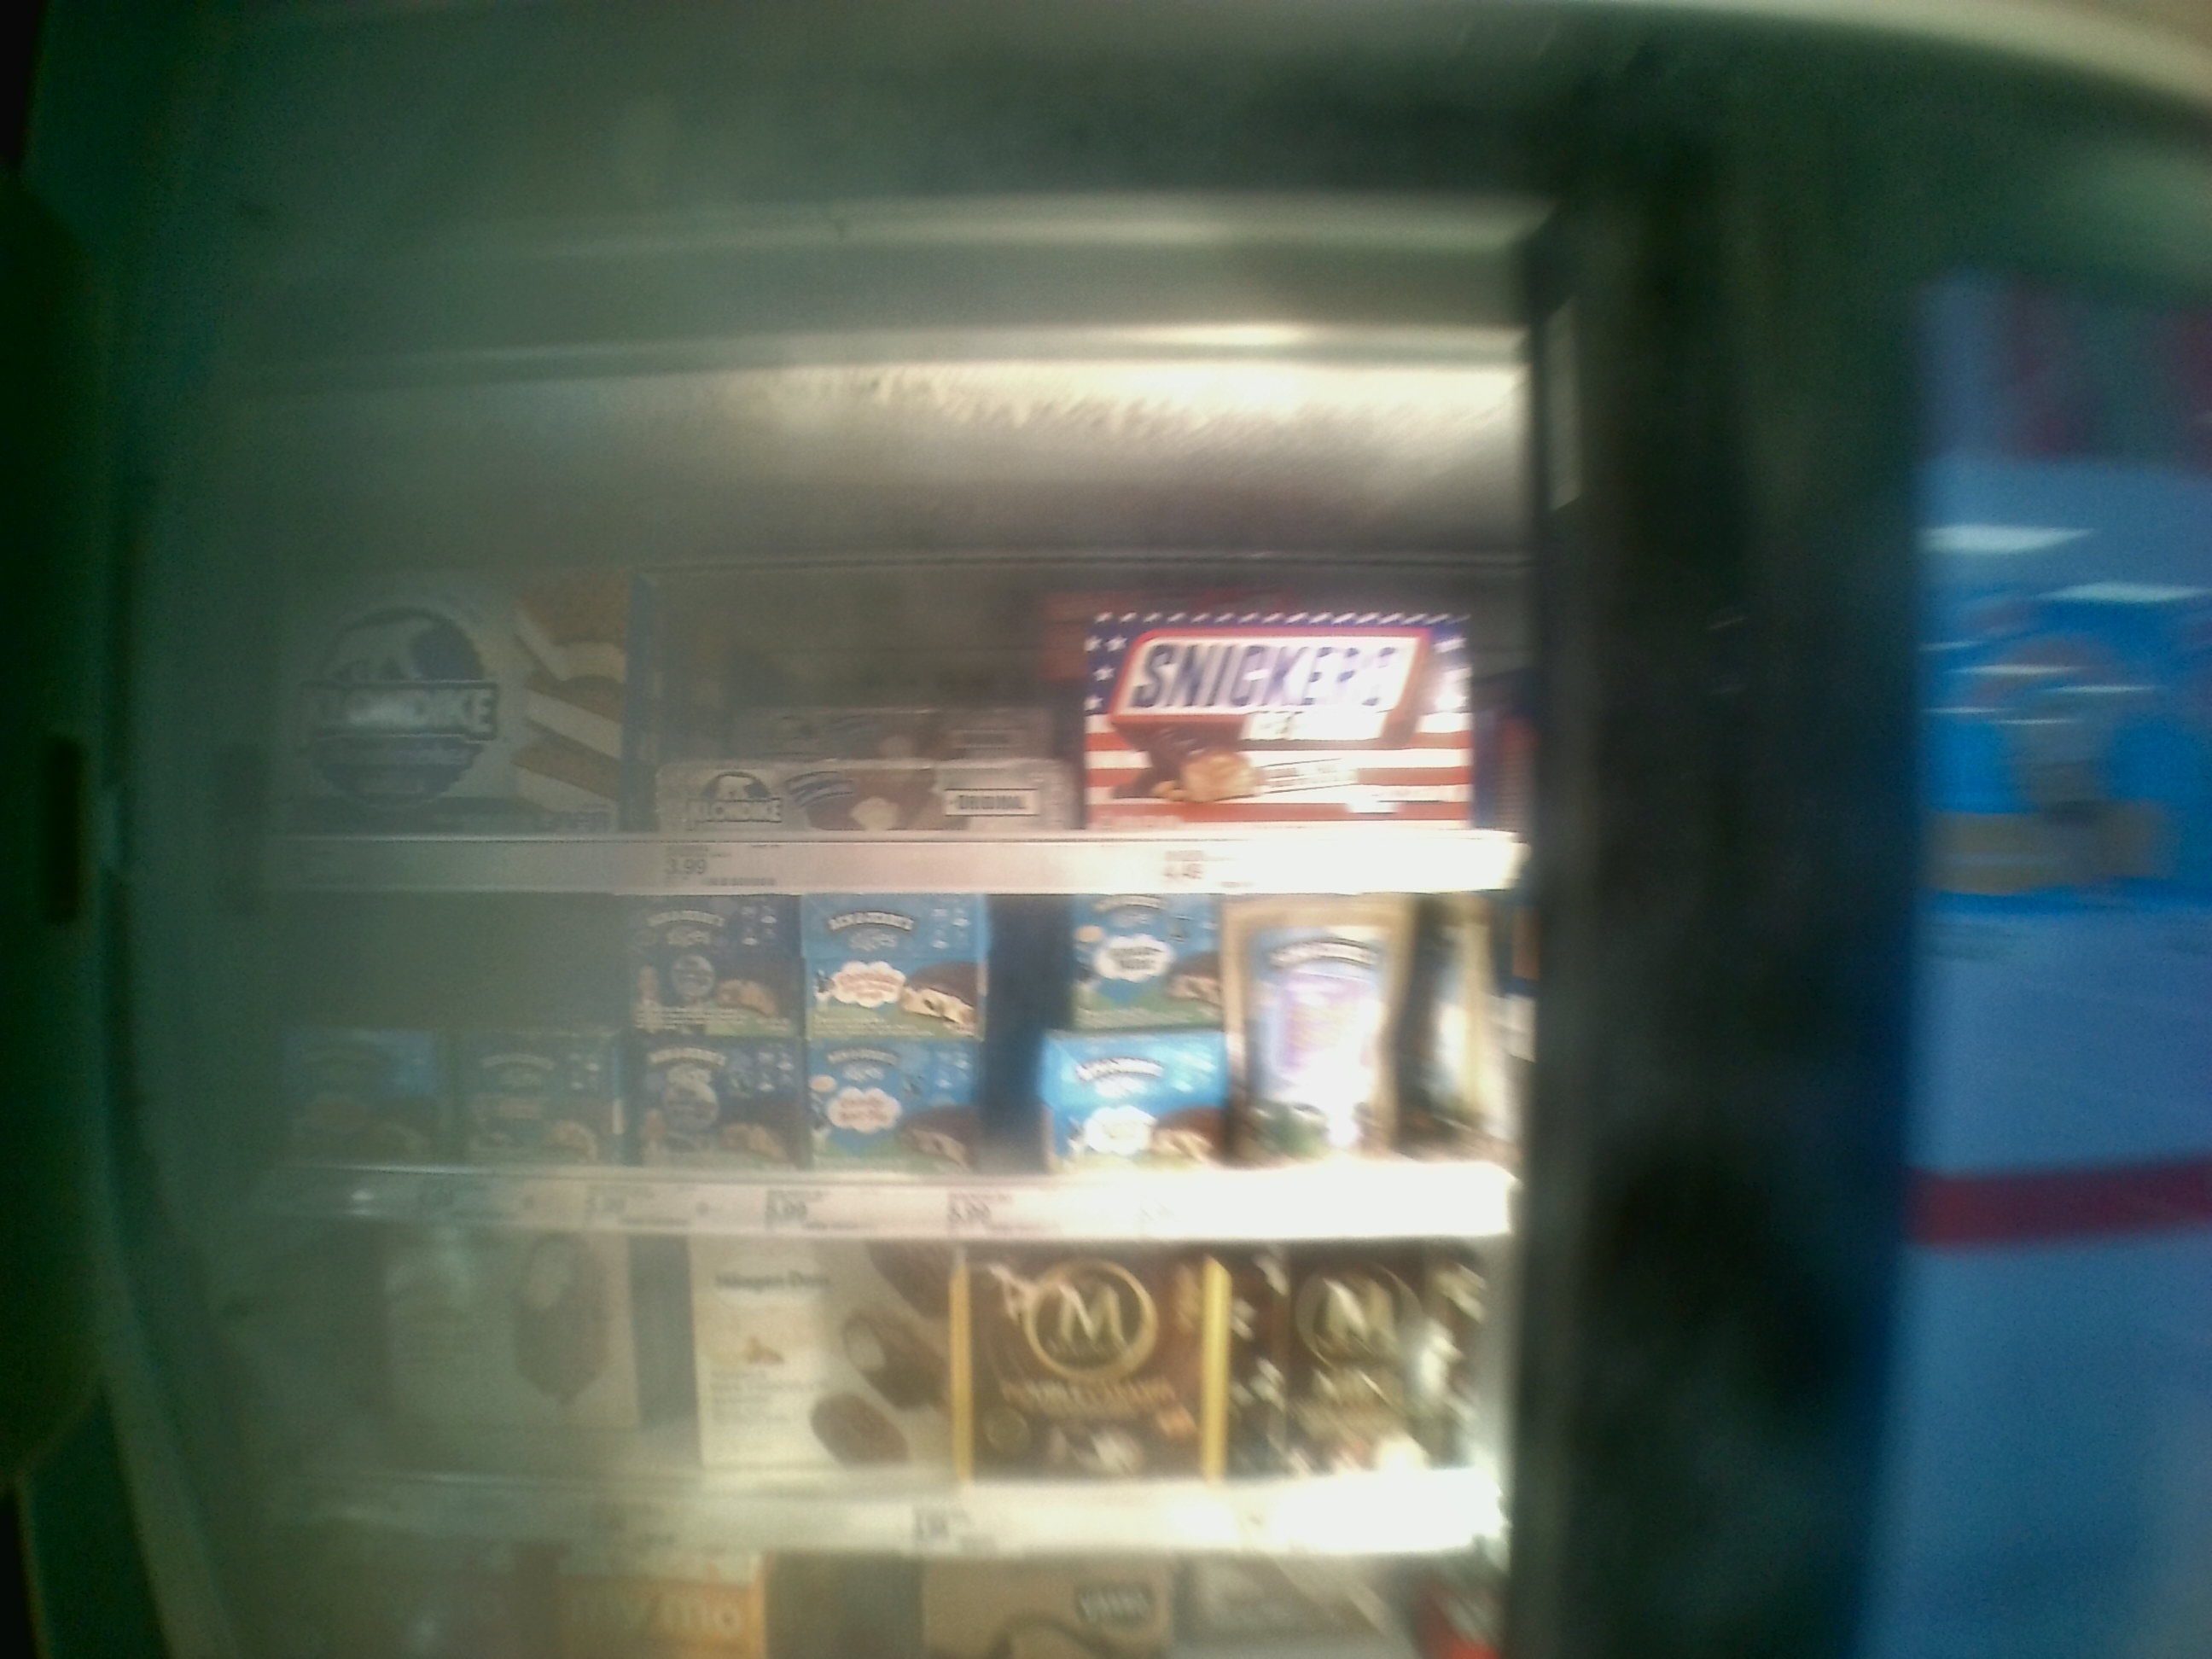ice-cream-shelf: (273, 481, 1529, 894), (275, 897, 1529, 1239), (261, 1229, 1510, 1553)
